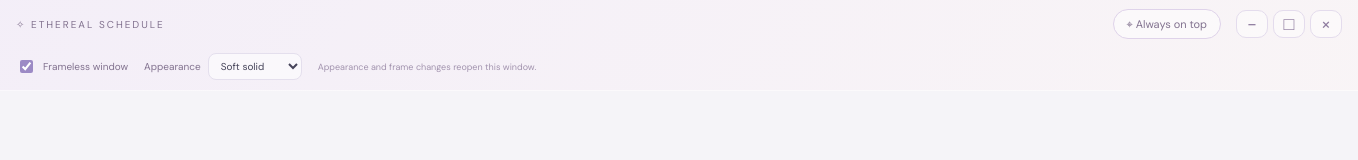
Test: reports preference write failures without falsely showing a pinned window
Click the button "⌖ Always on top" at (1167, 24), box [1112, 9, 1221, 39]
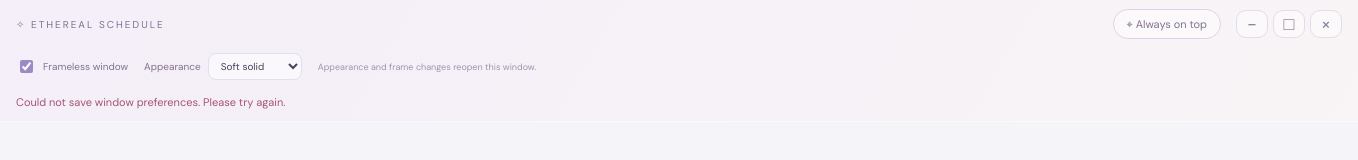
Check: the message shows "Could not save window preferences", box [16, 95, 286, 109]
